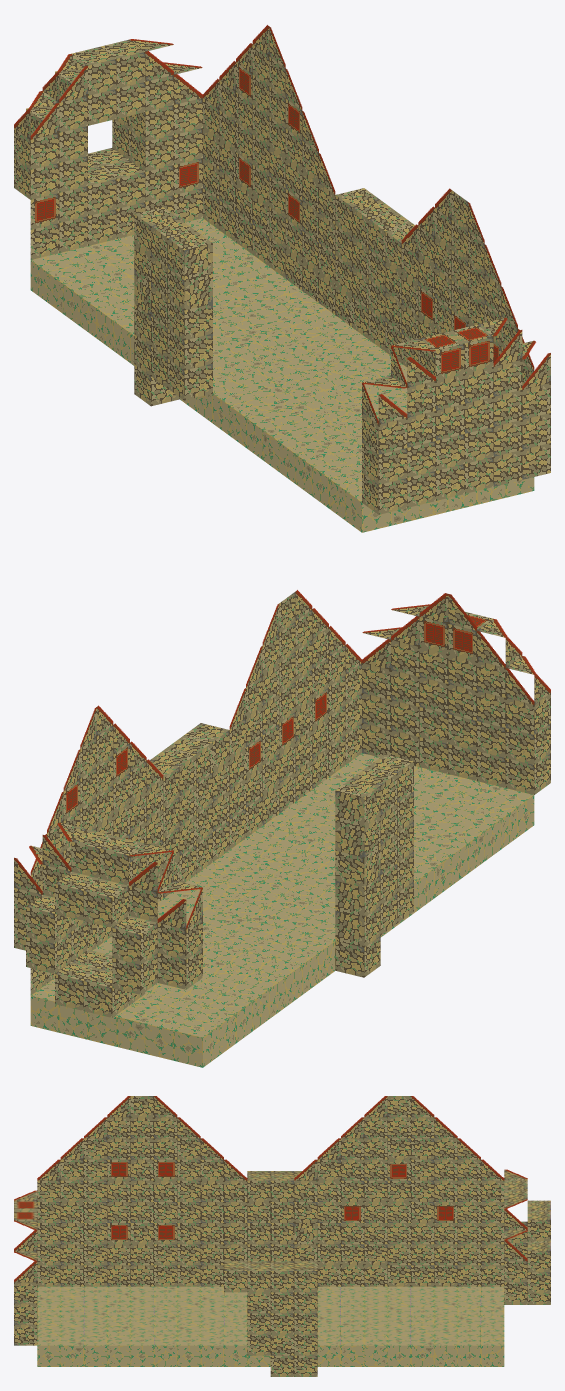
File: OldWorld1.gltf
The picture shows the model from 3 angles, top to bottom: view 1: azimuth 30°, elevation 25°; view 2: azimuth 150°, elevation 25°; view 3: azimuth 270°, elevation 25°; orthographic projection. The views are drawn at different scales.
Size of the model in its own units: 16 by 20 by 46.
1 material, 1 textured.
